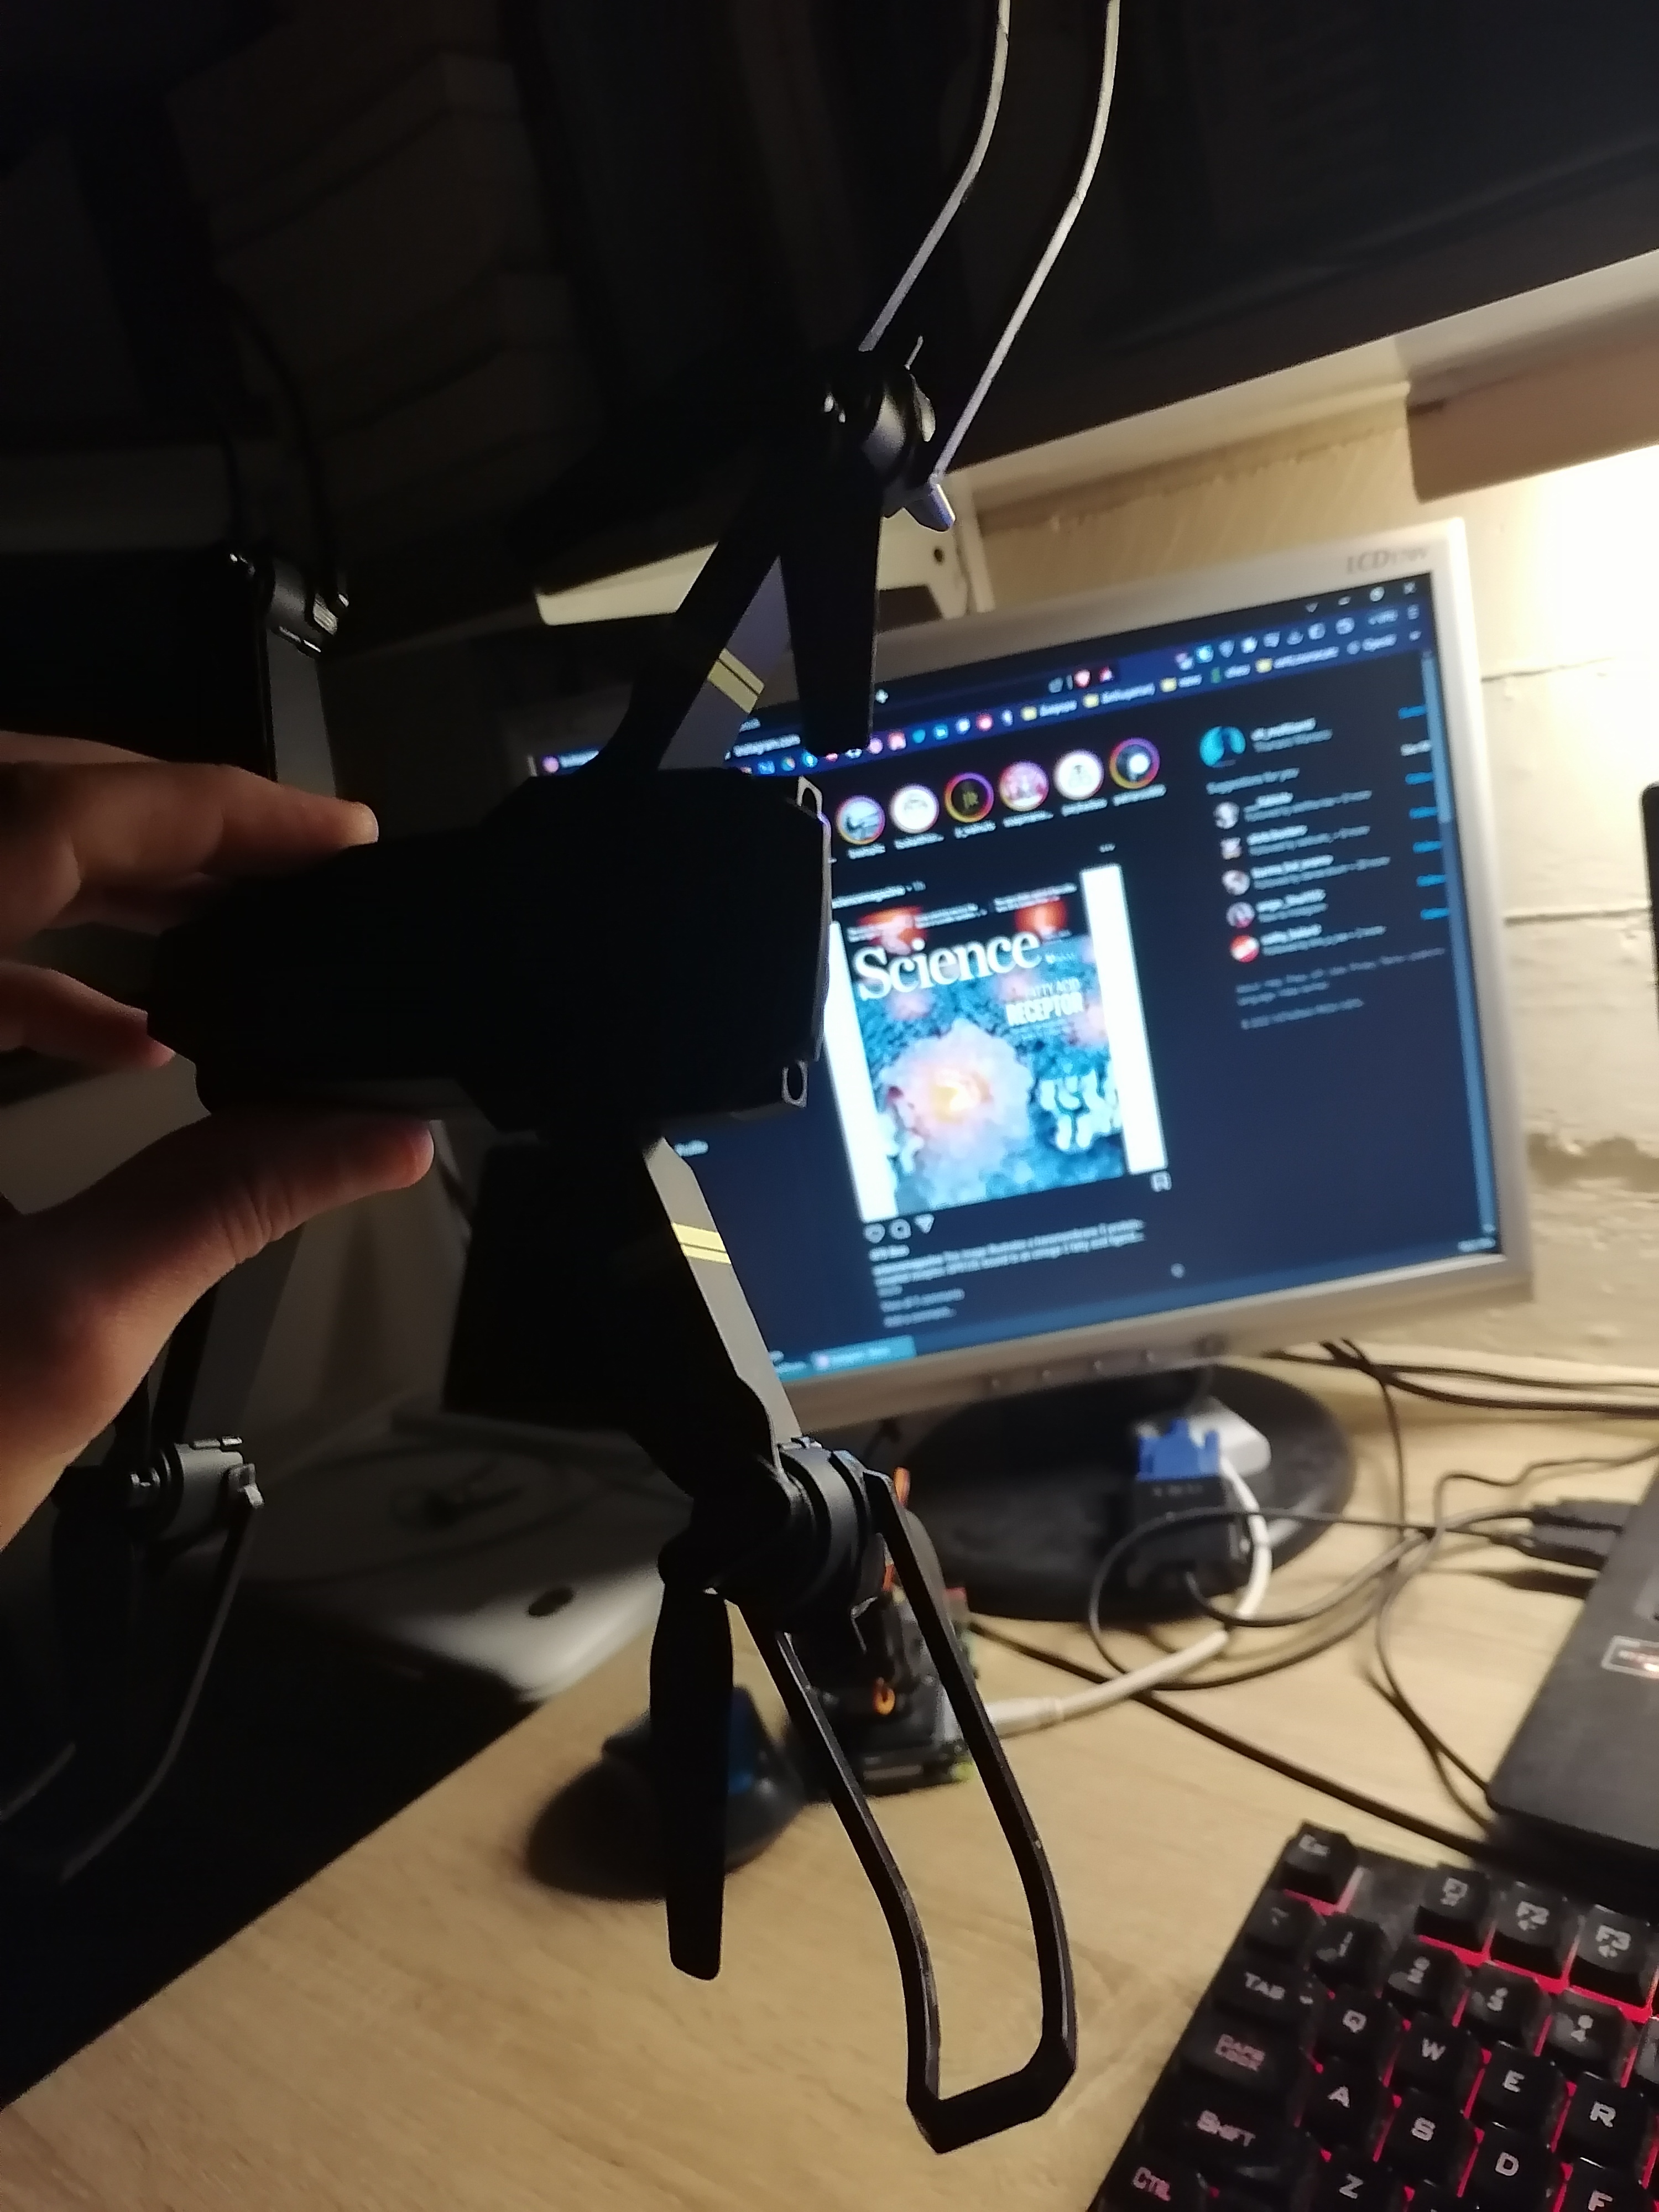drone: (85, 481, 1073, 1963)
